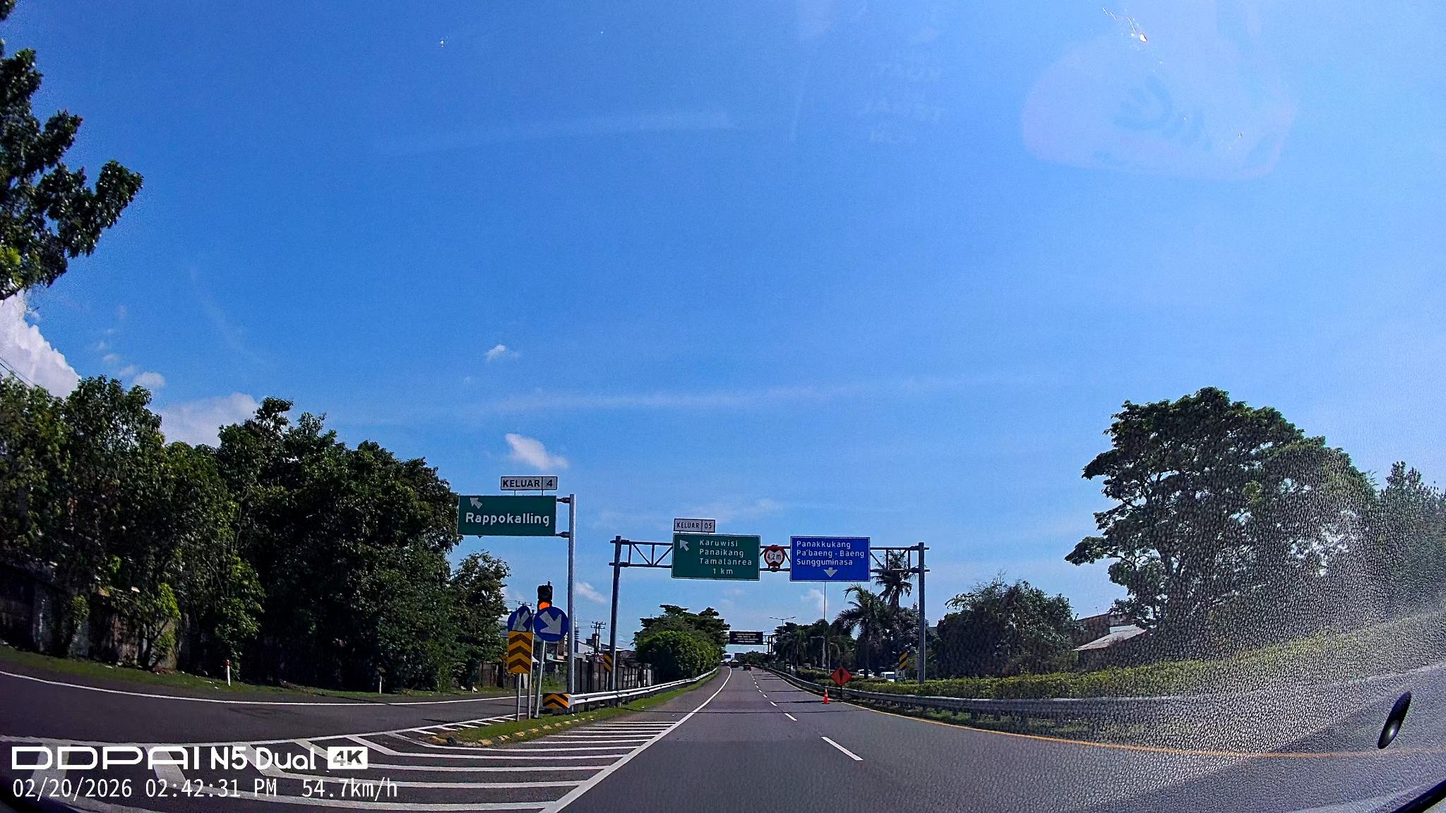rambu_teks: (672, 532, 761, 581), (456, 495, 557, 537), (789, 536, 870, 583)
